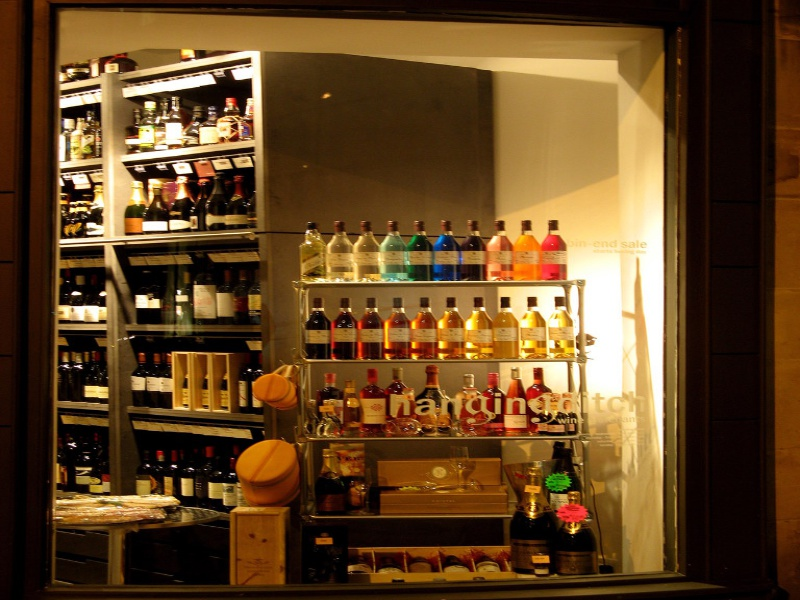wine: (295, 216, 606, 585), (56, 251, 273, 510), (110, 67, 263, 418), (55, 52, 112, 240)
